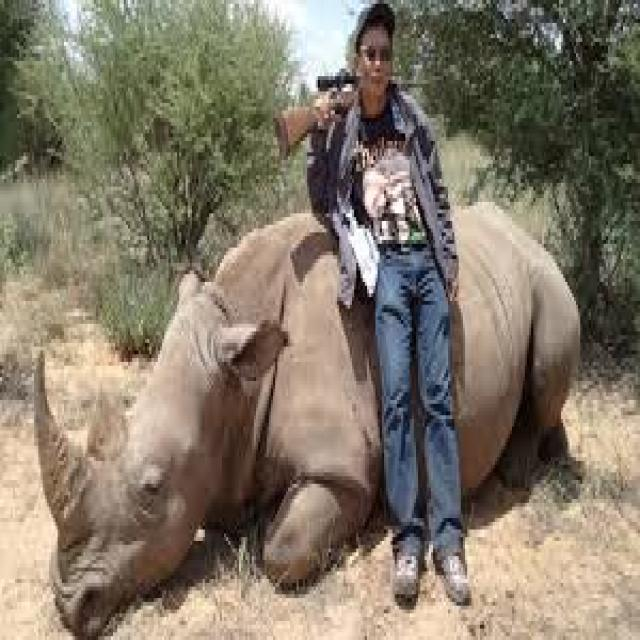poacher: (342, 0, 460, 474)
rhino: (47, 182, 574, 616)
weapon: (263, 75, 379, 167)
